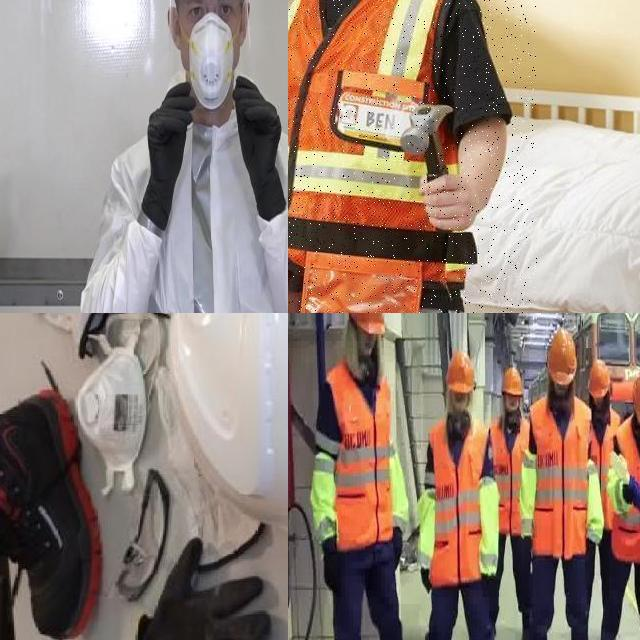BOOTS: (0, 392, 104, 640)
GLOVE: (133, 539, 275, 640), (319, 534, 344, 589), (391, 525, 404, 567), (422, 566, 435, 594)
Glove: (140, 78, 196, 232), (231, 72, 286, 216)
HELMET: (163, 313, 288, 538), (547, 331, 578, 387), (445, 351, 475, 397), (346, 313, 386, 338), (587, 360, 611, 400), (502, 367, 523, 400), (633, 372, 640, 430)
MASK: (188, 12, 234, 110)
VEST: (288, 0, 469, 313), (326, 363, 392, 548), (429, 419, 489, 588), (530, 396, 590, 558), (491, 410, 531, 533), (614, 415, 640, 565), (589, 409, 620, 529)
